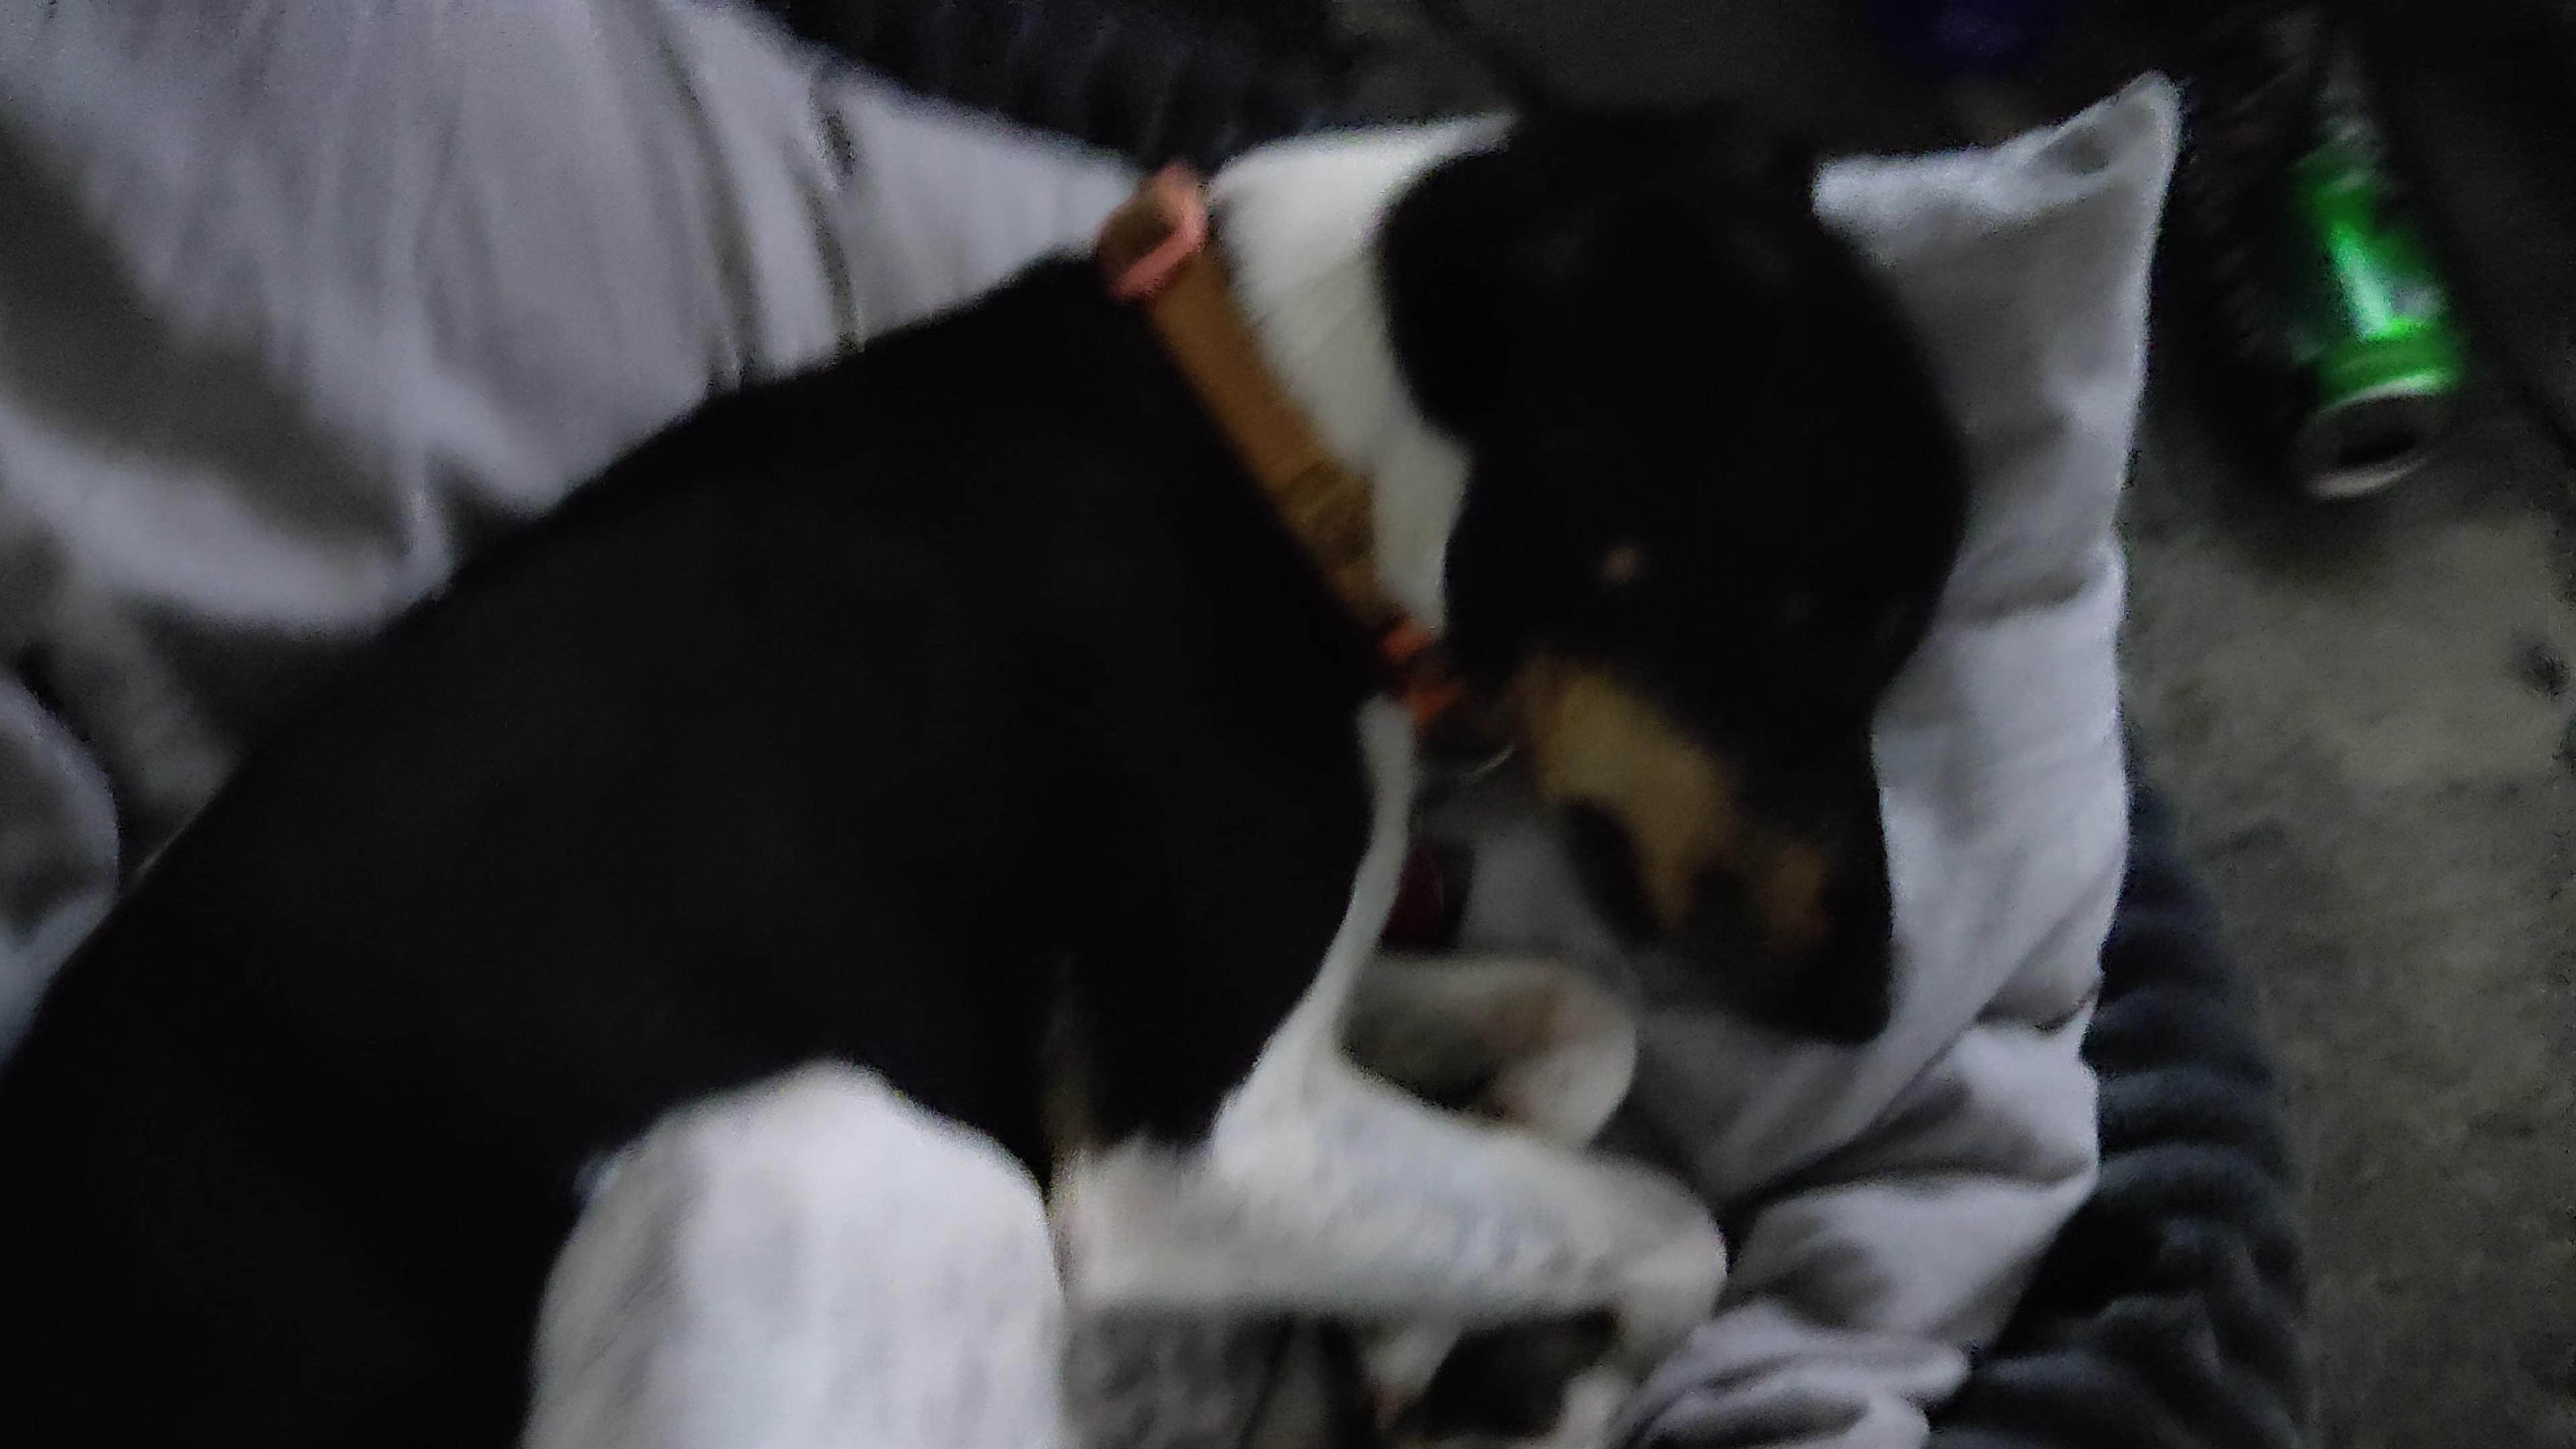Dog: (0, 69, 1999, 1449)
